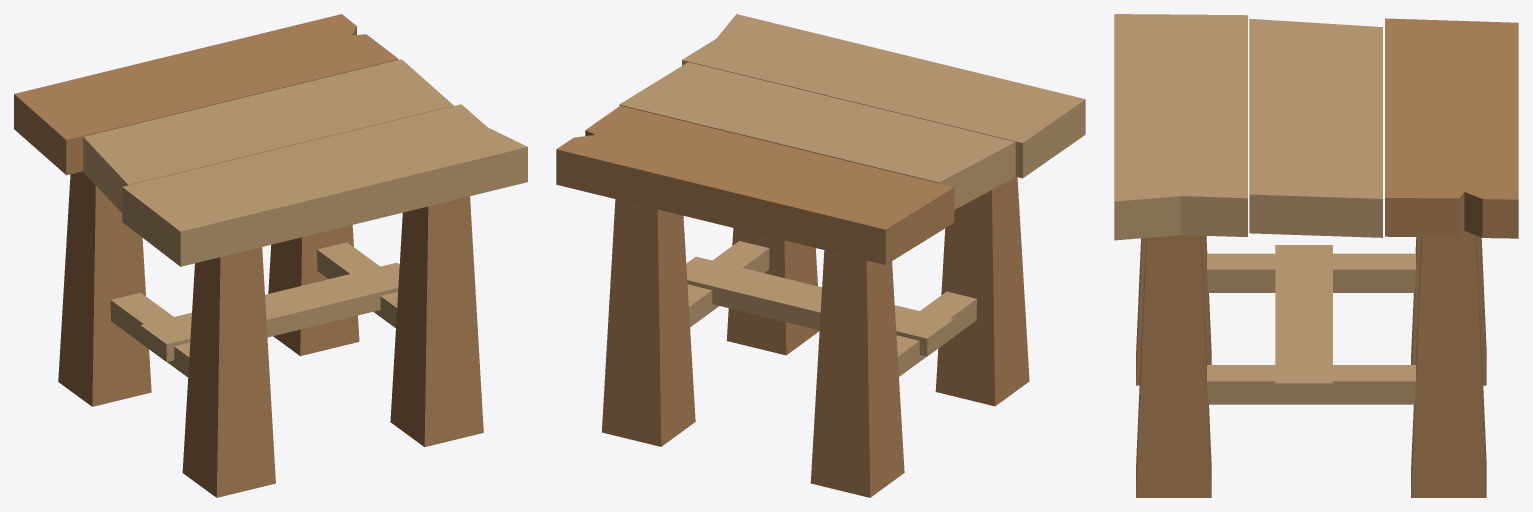
Rendered from stool.fbx.
3 views of the same model, side by side, from view 1: azimuth 30°, elevation 25°; view 2: azimuth 150°, elevation 25°; view 3: azimuth 270°, elevation 25° (orthographic). The views are drawn at different scales.
Parts seen in each view (by area): view 1: stool; view 2: stool; view 3: stool.
Part boxes in pixels (bbox=[...]): stool: bbox=[14, 14, 527, 497]; stool: bbox=[556, 14, 1085, 497]; stool: bbox=[1114, 14, 1518, 497].
Bounding box in the file's own units: 69.57 × 54.48 × 63.39.
